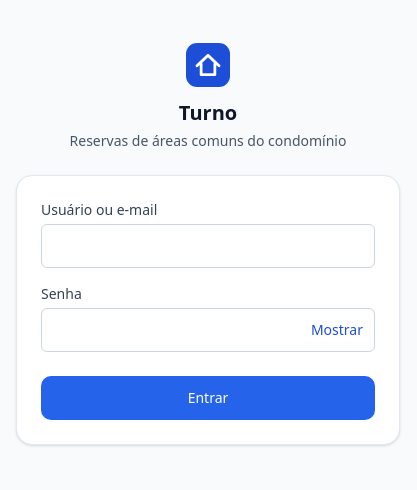
Test: LoginPage › 401 mostra a mensagem genérica da RN-05, sem detalhar o motivo
Type "a-1203" into the field labelled "Usuário ou e-mail" at (208, 246), box x1=41 y1=224 x2=375 y2=268
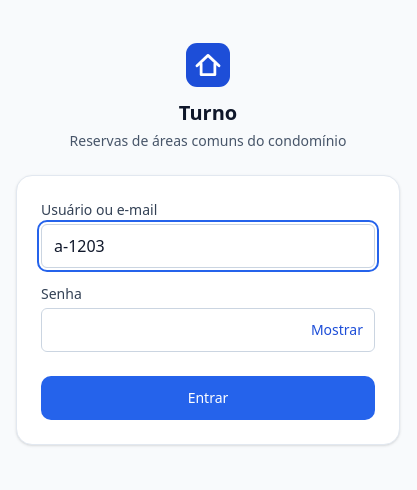
Type "senha-errada" into the password field labelled "Senha" at (208, 330), box x1=41 y1=308 x2=375 y2=352
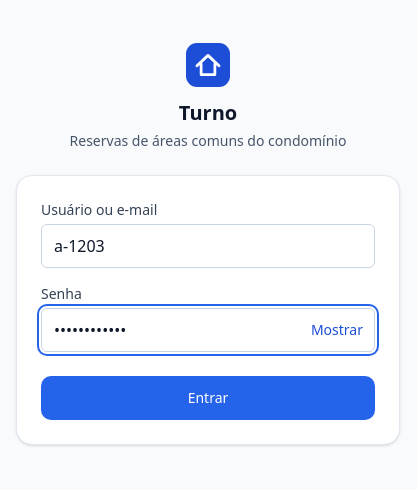
Click the button "Entrar" at (208, 398), box x1=41 y1=376 x2=375 y2=420
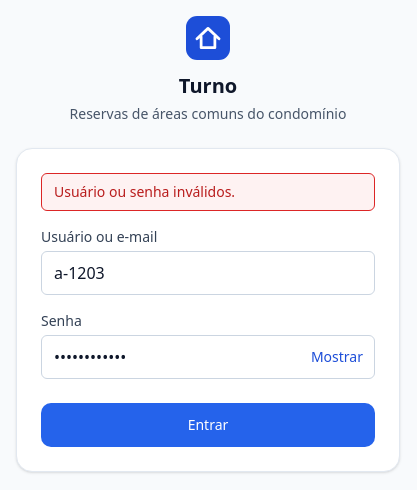
Now the text "Usuário ou senha inválidos." is shown, box x1=41 y1=173 x2=375 y2=211
